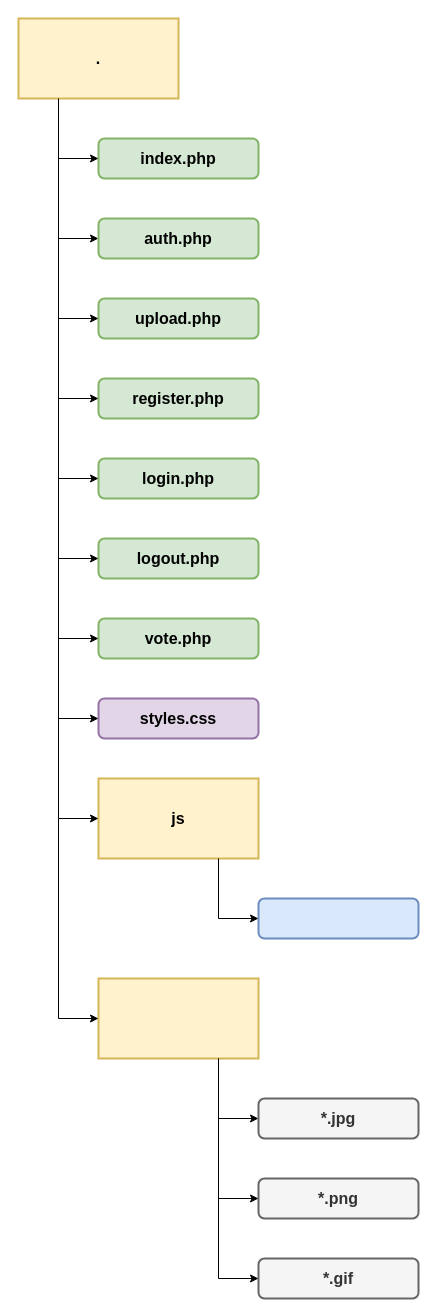
The diagram is 436 pixels wide and 1316 high, and some of its shapes have lost their labels. The shapes that lost their labels are listed below. From the top down, each one's centre as x and y in pixels, then its label:
At pixel 338 918: "vote.js".
At pixel 178 1018: "images".
